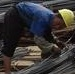hard-hat: (58, 8, 75, 27)
